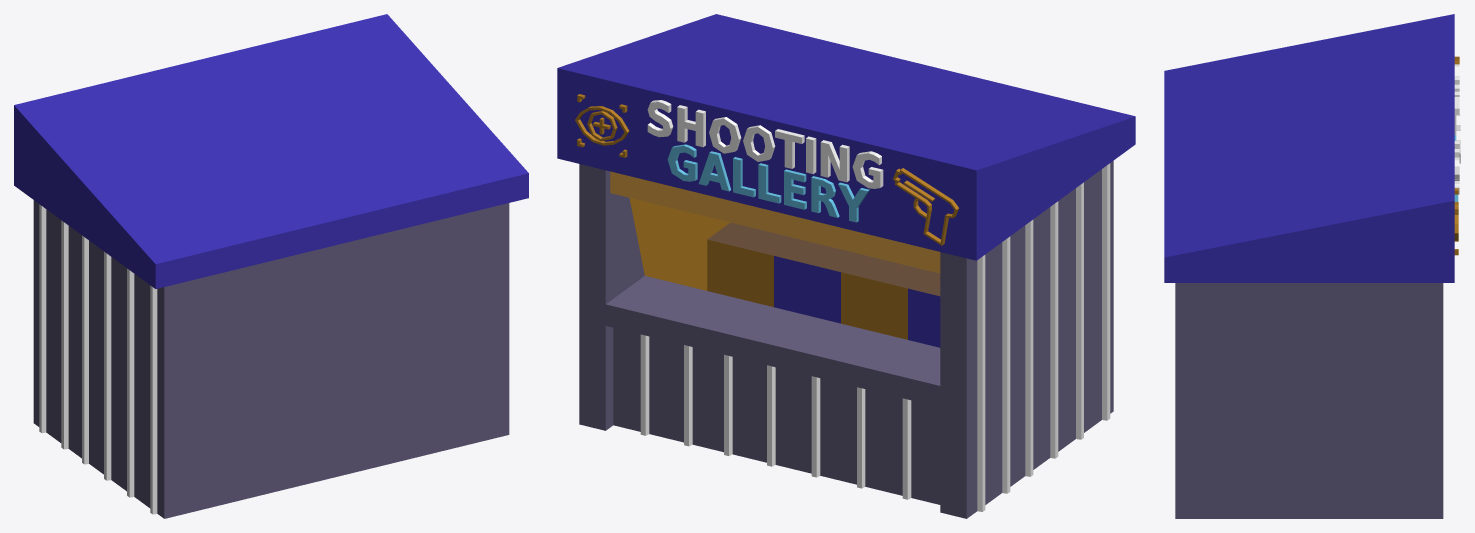
File: DISPARO_CASETA.glb
3 renders of one model, left to right at view 1: azimuth 30°, elevation 25°; view 2: azimuth 150°, elevation 25°; view 3: azimuth 270°, elevation 25°, orthographic. The views are drawn at different scales.
Parts seen in each view (by area): view 1: fence_concrete_029_env_main_0; view 2: fence_concrete_029_env_main_0; view 3: fence_concrete_029_env_main_0.
Part boxes in pixels (x1,y1,x2,y2): fence_concrete_029_env_main_0: (14,14,528,518); fence_concrete_029_env_main_0: (557,14,1135,518); fence_concrete_029_env_main_0: (1164,14,1460,518).
Size of the model in its own units: 2.48 by 2.02 by 1.67.
Materials: 4 (1 with a texture image).
